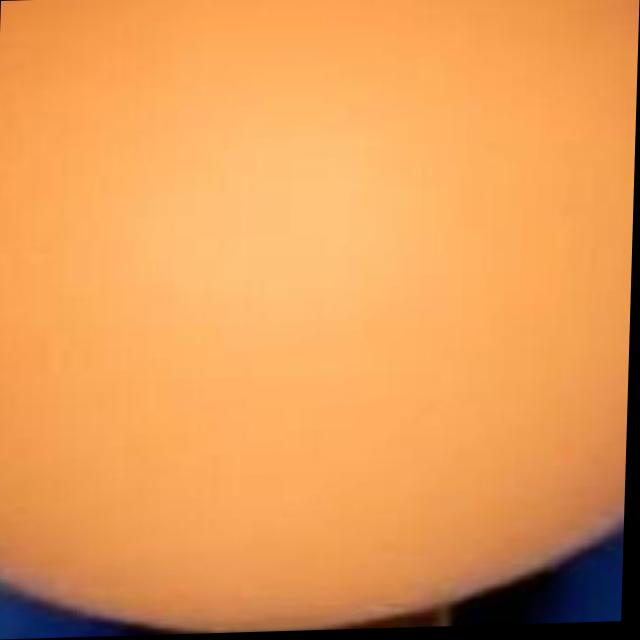fresh: (0, 0, 640, 638)
